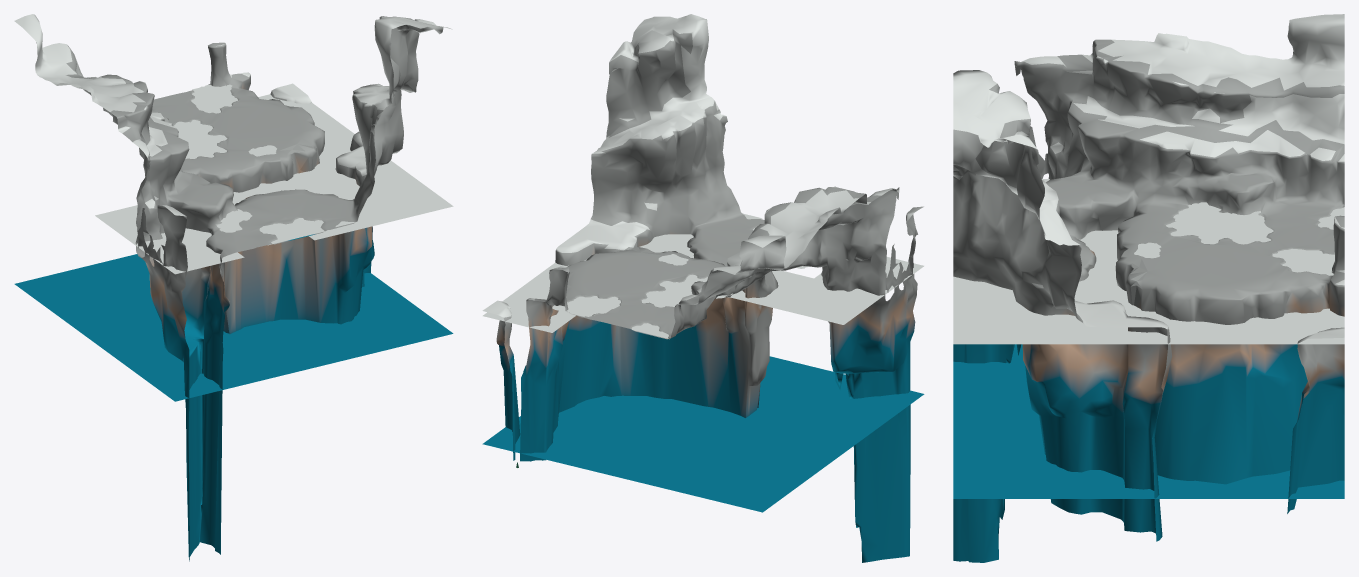
3 views of the same model, side by side, from view 1: azimuth 30°, elevation 25°; view 2: azimuth 150°, elevation 25°; view 3: azimuth 270°, elevation 25° (orthographic). The views are drawn at different scales.
Visible parts, largest first — view 1: G:\FFXIV-MapTools\exports\s1f6\bg\ffxiv\sea_s1\fld\s1f6\bgpl (×15); view 2: G:\FFXIV-MapTools\exports\s1f6\bg\ffxiv\sea_s1\fld\s1f6\bgpl (×11); view 3: G:\FFXIV-MapTools\exports\s1f6\bg\ffxiv\sea_s1\fld\s1f6\bgpl (×18).
Boxes of the visible parts, x1,y1,x2,y2 form: G:\FFXIV-MapTools\exports\s1f6\bg\ffxiv\sea_s1\fld\s1f6\bgpl (×15): (14, 14, 453, 561); G:\FFXIV-MapTools\exports\s1f6\bg\ffxiv\sea_s1\fld\s1f6\bgpl (×11): (482, 14, 924, 562); G:\FFXIV-MapTools\exports\s1f6\bg\ffxiv\sea_s1\fld\s1f6\bgpl (×18): (953, 14, 1344, 562).
Size of the model in its own units: 128 by 213 by 128.
